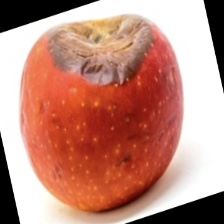apple: (38, 25, 201, 189)
